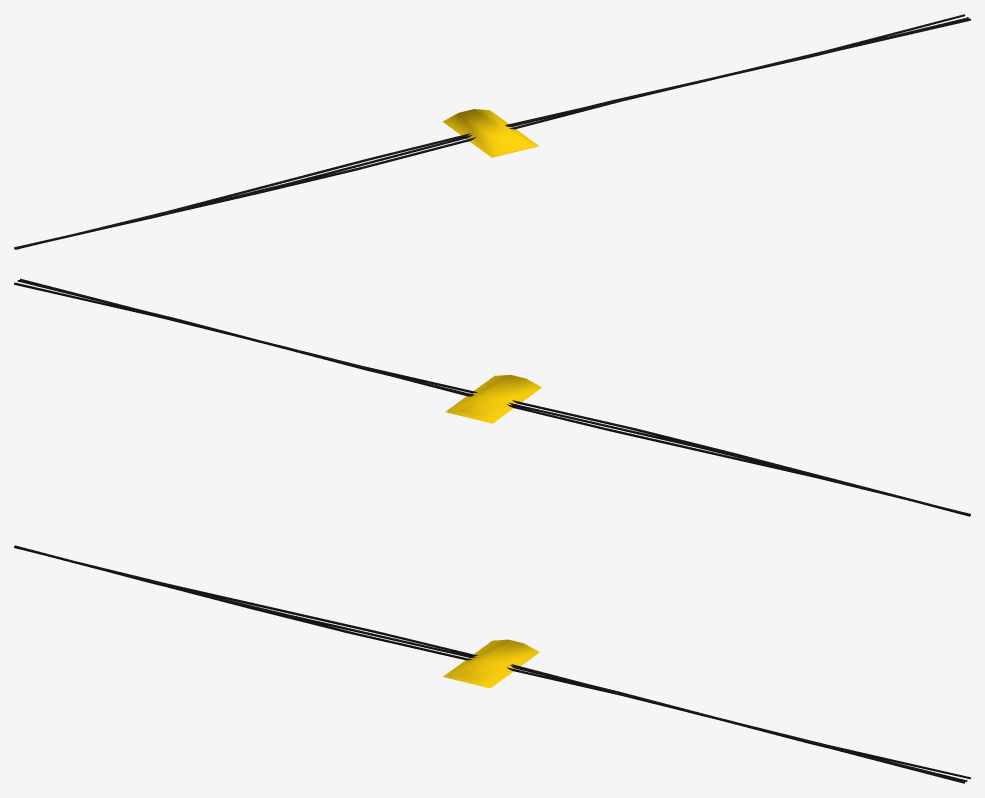
The model's file is cable_run_lod1.glb.
3 renders of one model, top to bottom at view 1: azimuth 30°, elevation 25°; view 2: azimuth 150°, elevation 25°; view 3: azimuth 330°, elevation 25°, orthographic.
Visible parts, largest first — view 1: cable_run_lod1; view 2: cable_run_lod1; view 3: cable_run_lod1.
Boxes of the visible parts, left/top/right/bottom form: cable_run_lod1: left=14, top=14, right=970, bottom=249; cable_run_lod1: left=14, top=278, right=970, bottom=516; cable_run_lod1: left=14, top=545, right=970, bottom=783.
Bounding box in the file's own units: 10 × 0.05 × 0.9.
